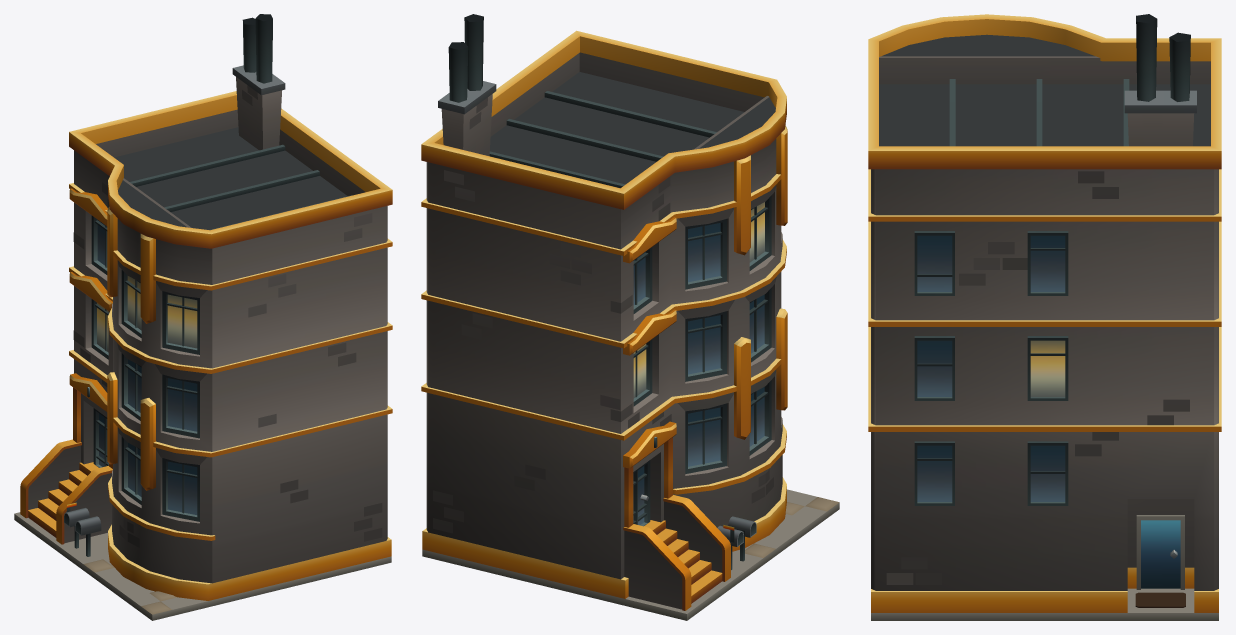
File: Building_4A.fbx
3 views of the same model, side by side, from view 1: azimuth 30°, elevation 25°; view 2: azimuth 150°, elevation 25°; view 3: azimuth 270°, elevation 25° (orthographic). The views are drawn at different scales.
Visible parts, largest first — view 1: Building_4A, Window_Lights_4A; view 2: Building_4A, Window_Lights_4A; view 3: Building_4A, Window_Lights_4A.
Part boxes in pixels (x1,y1,x2,y2): Building_4A: (14,14,392,620); Window_Lights_4A: (97,276,197,352); Building_4A: (421,14,839,620); Window_Lights_4A: (633,202,764,398); Building_4A: (868,14,1221,620); Window_Lights_4A: (1030,340,1065,397).
Size of the model in its own units: 1205 by 2251 by 1220.
